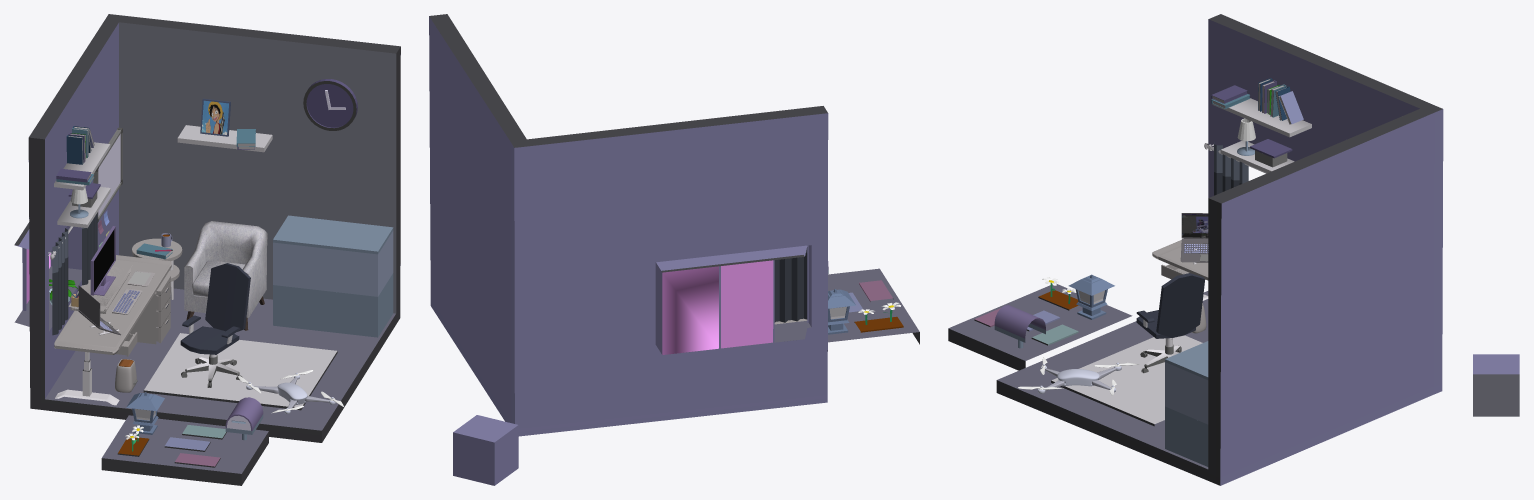
File: myRoomFinaleV1.2.glb
3 views of the same model, side by side, from view 1: azimuth 30°, elevation 25°; view 2: azimuth 150°, elevation 25°; view 3: azimuth 270°, elevation 25° (orthographic). The views are drawn at different scales.
Parts seen in each view (by area): view 1: Body, Aquarium, Shelves, Floor Items, Table Stuff, Mini Floor, Desks, Chair, Computer, MailBox, outdoorLamp, FloorSecond (+3 smaller); view 2: Body, Cube, Mini Floor, Shelves, outdoorLamp, Dirt; view 3: Body, Shelves, Floor Items, Mini Floor, Aquarium, Chair, Cube, Computer, MailBox, outdoorLamp, Desks, Drone.
Boxes of the visible parts, left/top/right/bottom form: Body: left=14, top=14, right=400, bottom=442; Aquarium: left=273, top=215, right=393, bottom=337; Shelves: left=48, top=79, right=357, bottom=335; Floor Items: left=115, top=275, right=337, bottom=410; Table Stuff: left=49, top=221, right=267, bottom=330; Mini Floor: left=101, top=415, right=268, bottom=485; Desks: left=54, top=238, right=182, bottom=405; Chair: left=180, top=263, right=250, bottom=364; Computer: left=78, top=226, right=120, bottom=335; MailBox: left=225, top=397, right=263, bottom=440; outdoorLamp: left=126, top=392, right=164, bottom=434; FloorSecond: left=164, top=437, right=210, bottom=451; Body: left=429, top=14, right=828, bottom=436; Cube: left=453, top=415, right=518, bottom=485; Mini Floor: left=828, top=268, right=919, bottom=344; Shelves: left=774, top=247, right=807, bottom=322; outdoorLamp: left=828, top=289, right=855, bottom=334; Dirt: left=854, top=316, right=903, bottom=332; Body: left=996, top=14, right=1443, bottom=485; Shelves: left=1204, top=78, right=1311, bottom=195; Floor Items: left=1051, top=303, right=1206, bottom=426; Mini Floor: left=948, top=283, right=1132, bottom=370; Aquarium: left=1165, top=341, right=1208, bottom=466; Chair: left=1136, top=273, right=1205, bottom=354; Cube: left=1473, top=354, right=1519, bottom=416; Computer: left=1180, top=213, right=1208, bottom=264; MailBox: left=994, top=305, right=1045, bottom=348; outdoorLamp: left=1068, top=274, right=1114, bottom=319; Desks: left=1152, top=240, right=1208, bottom=300; Drone: left=1057, top=369, right=1099, bottom=386.
Size of the model in its own units: 27.98 by 20.09 by 35.03.
Materials: 59 (5 with a texture image).
